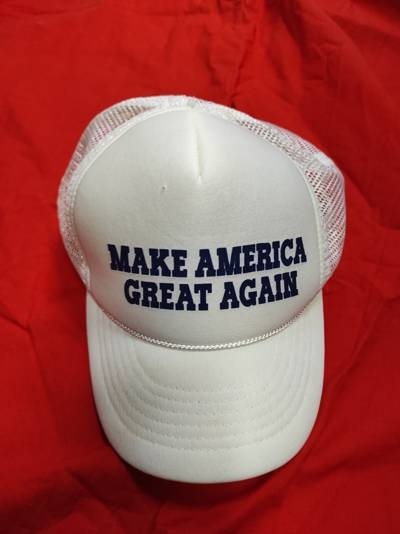Hat: (47, 65, 356, 496)
